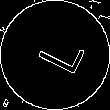L_NW: (26, 30, 84, 80)
